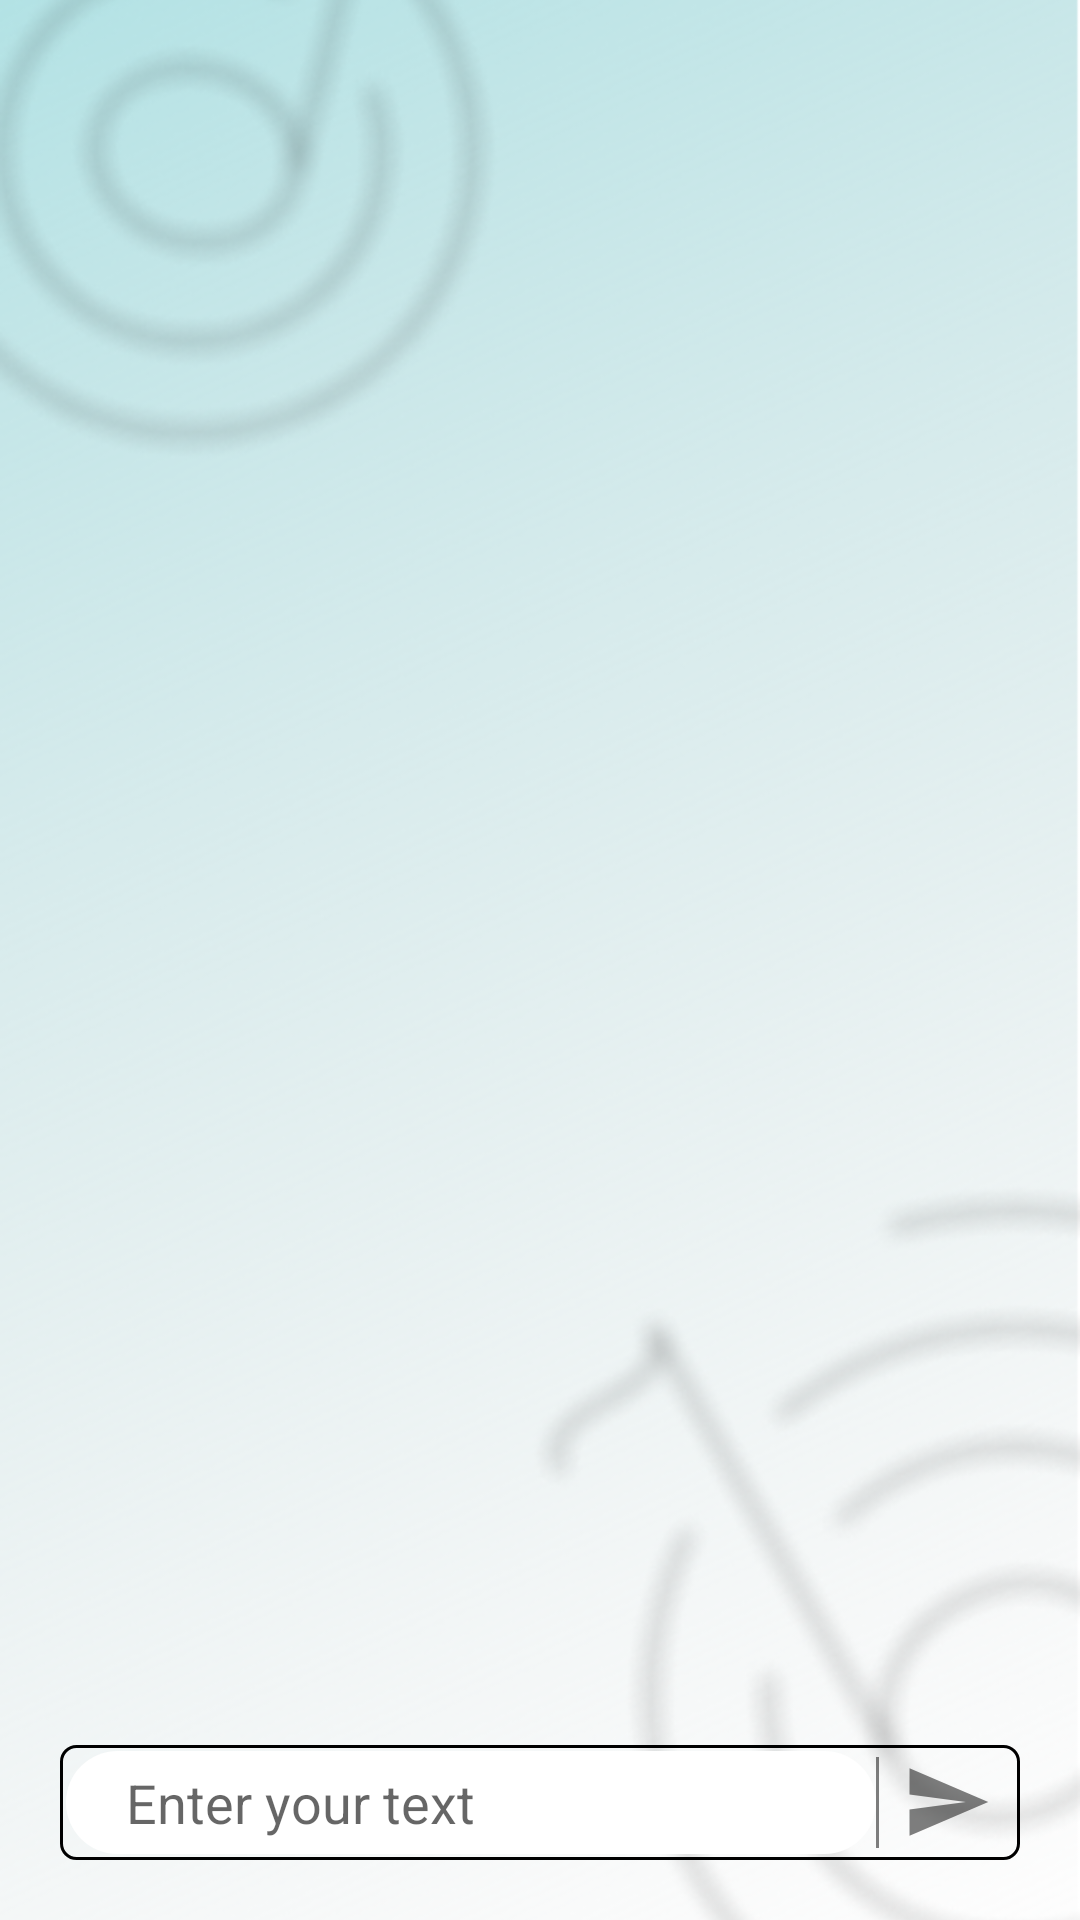

Screen size 1080 × 1920. Icon name, then its box in pixels as (x1, y1, x2, y2):
send: (909, 1768, 988, 1836)
